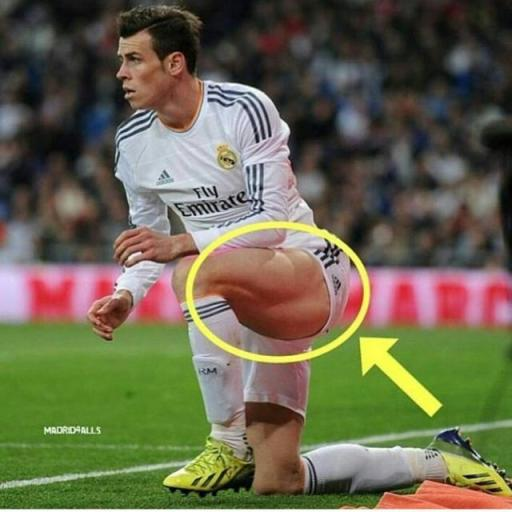Emirates: (167, 182, 261, 224)
